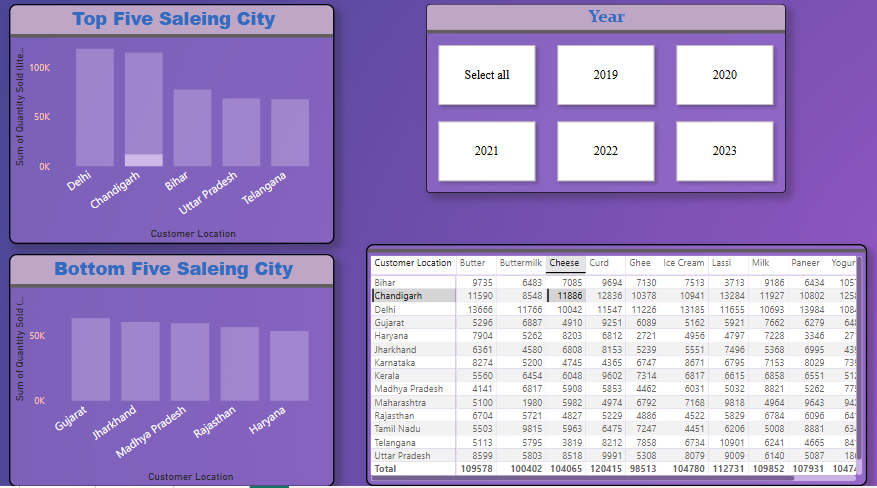

The page's visual inventory and layout, read from the dashboard file:
{"tool":"powerbi","page":{"name":"Page 3","canvas":[1280,720],"ordinal":2},"visuals":[{"type":"clusteredColumnChart","title":"Top Five Saleing City","fields":{"Category":["dairy_analysis.Customer Location"],"Y":["Sum(dairy_analysis.Quantity Sold (liters/kg))"]},"box":[25.2,31.9,465.3,342.7],"z":0},{"type":"clusteredColumnChart","title":"Bottom Five Saleing City","fields":{"Category":["dairy_analysis.Customer Location"],"Y":["Sum(dairy_analysis.Quantity Sold (liters/kg))"]},"box":[25.2,388,465.3,332.6],"z":1000},{"type":"pivotTable","fields":{"Rows":["dairy_analysis.Customer Location"],"Columns":["dairy_analysis.Product Name"],"Values":["Sum(dairy_analysis.Quantity Sold (liters/kg))"]},"box":[536,374,716,346],"z":2000},{"type":"advancedSlicerVisual","fields":{"Values":["dairy_analysis.Year"]},"box":[622,32,514,270],"z":3000}]}

Visuals, with their boxes in screenshot pixels (x1, y1, x2, y2), scaled from the page's 1280x720 canvas onto the 877x488 screenshot:
"Top Five Saleing City" clusteredColumnChart: BBox(17, 22, 336, 254)
"Bottom Five Saleing City" clusteredColumnChart: BBox(17, 263, 336, 487)
pivotTable - dairy_analysis.Customer Location x dairy_analysis.Product Name: BBox(367, 253, 858, 487)
advancedSlicerVisual - dairy_analysis.Year: BBox(426, 22, 778, 205)
